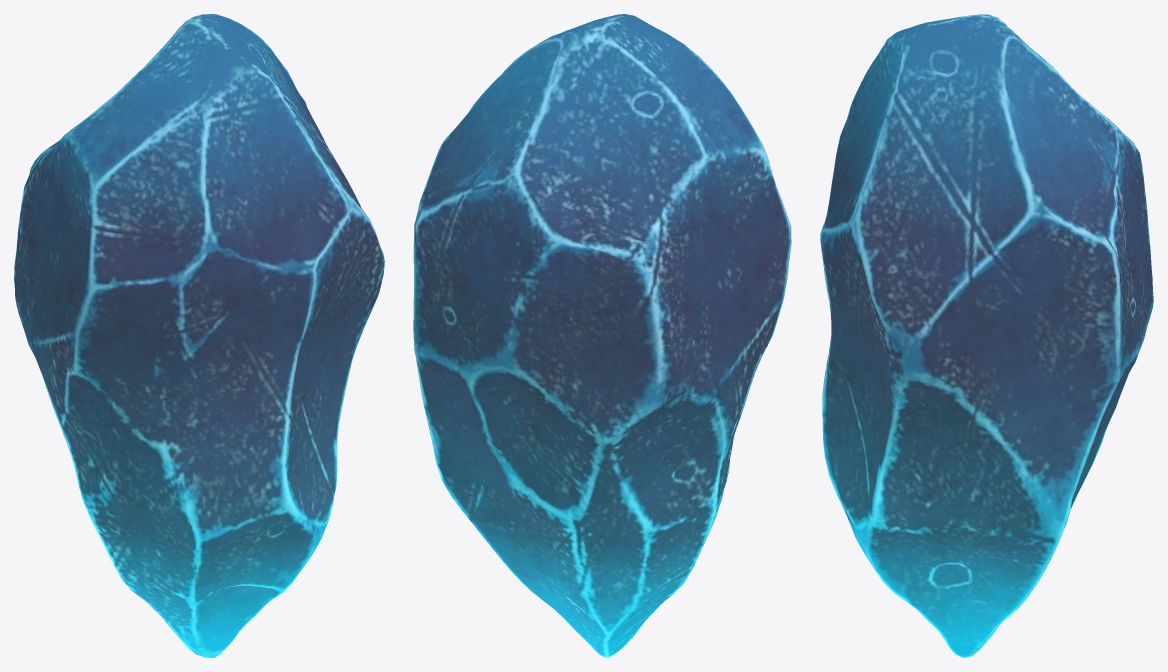
Rendered from crystal-small.glb.
The picture shows the model from 3 angles, left to right: view 1: azimuth 30°, elevation 25°; view 2: azimuth 150°, elevation 25°; view 3: azimuth 270°, elevation 25°; orthographic projection.
Parts seen in each view (by area): view 1: PM3D_Sphere3D_2; view 2: PM3D_Sphere3D_2; view 3: PM3D_Sphere3D_2.
Boxes of the visible parts, left/top/right/bottom form: PM3D_Sphere3D_2: left=14, top=14, right=384, bottom=657; PM3D_Sphere3D_2: left=413, top=14, right=791, bottom=657; PM3D_Sphere3D_2: left=820, top=14, right=1153, bottom=657.
Size of the model in its own units: 1 by 2 by 0.9443.
Materials: 1 (1 with a texture image).
